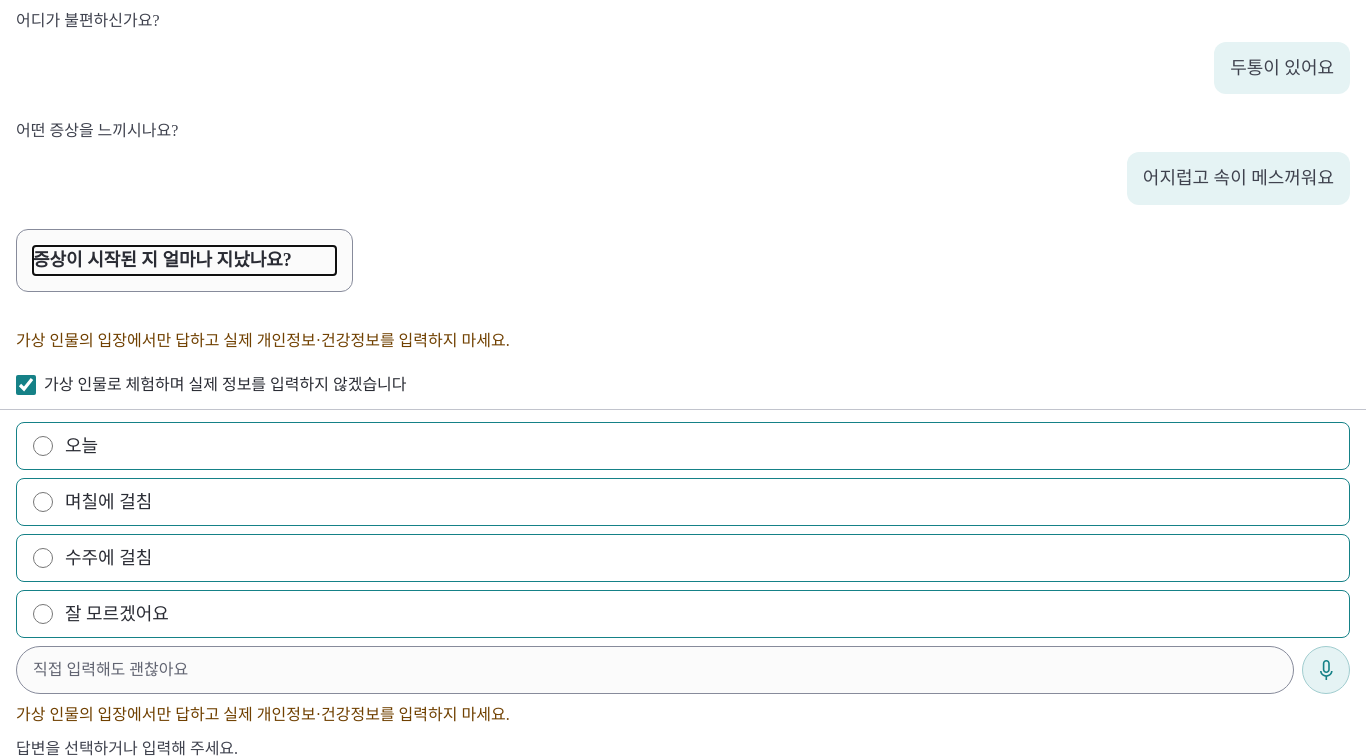
Scenario: 문진 상태 전환 › complete 뒤 요약을 한 번 요청하고 provider 실패 시 같은 history의 결정론적 요약을 표시한다
What coordinates should you click on to do the following:
click the radio button labelled "며칠에 걸침"
I would click on:
 (43, 502)
Its box is [33, 492, 53, 512].
(page scrolled)
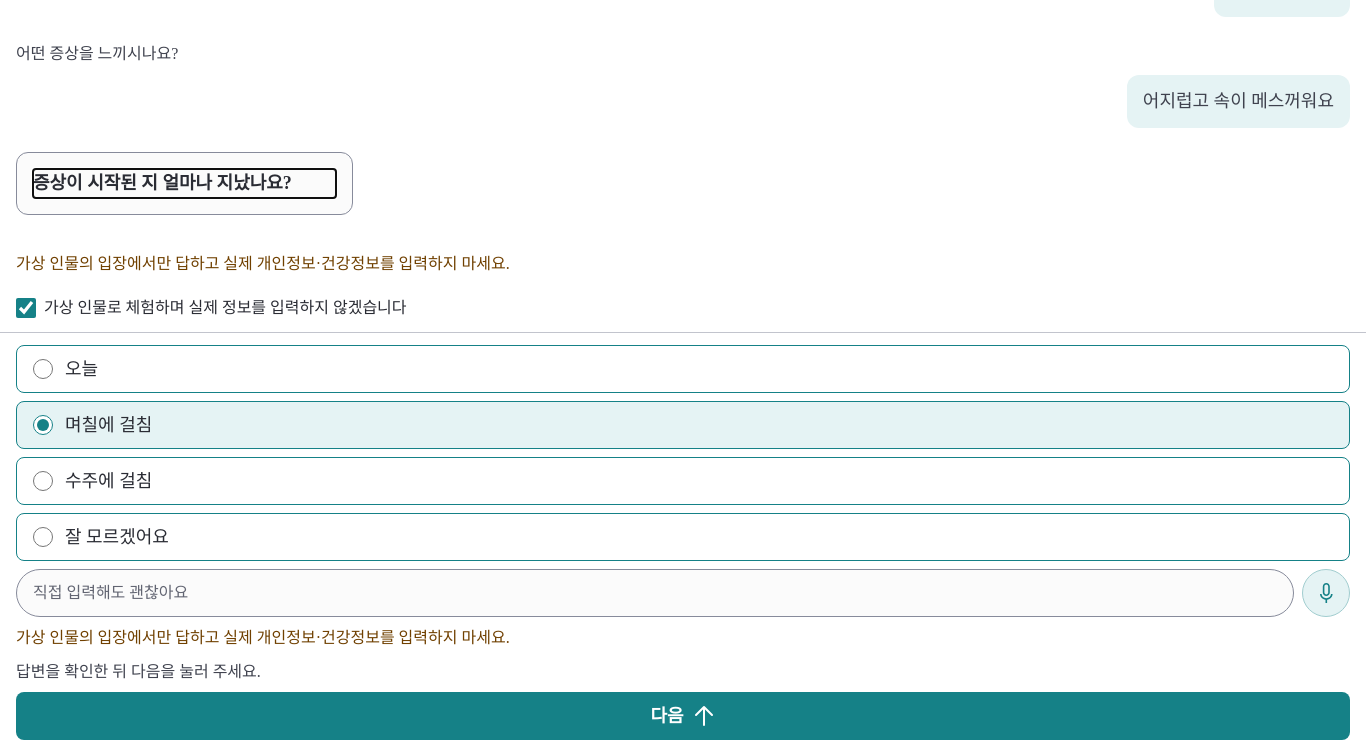
What coordinates should you click on to do the following:
click the button "다음"
I would click on:
 (683, 716)
Its box is [16, 692, 1350, 740].
(page scrolled)
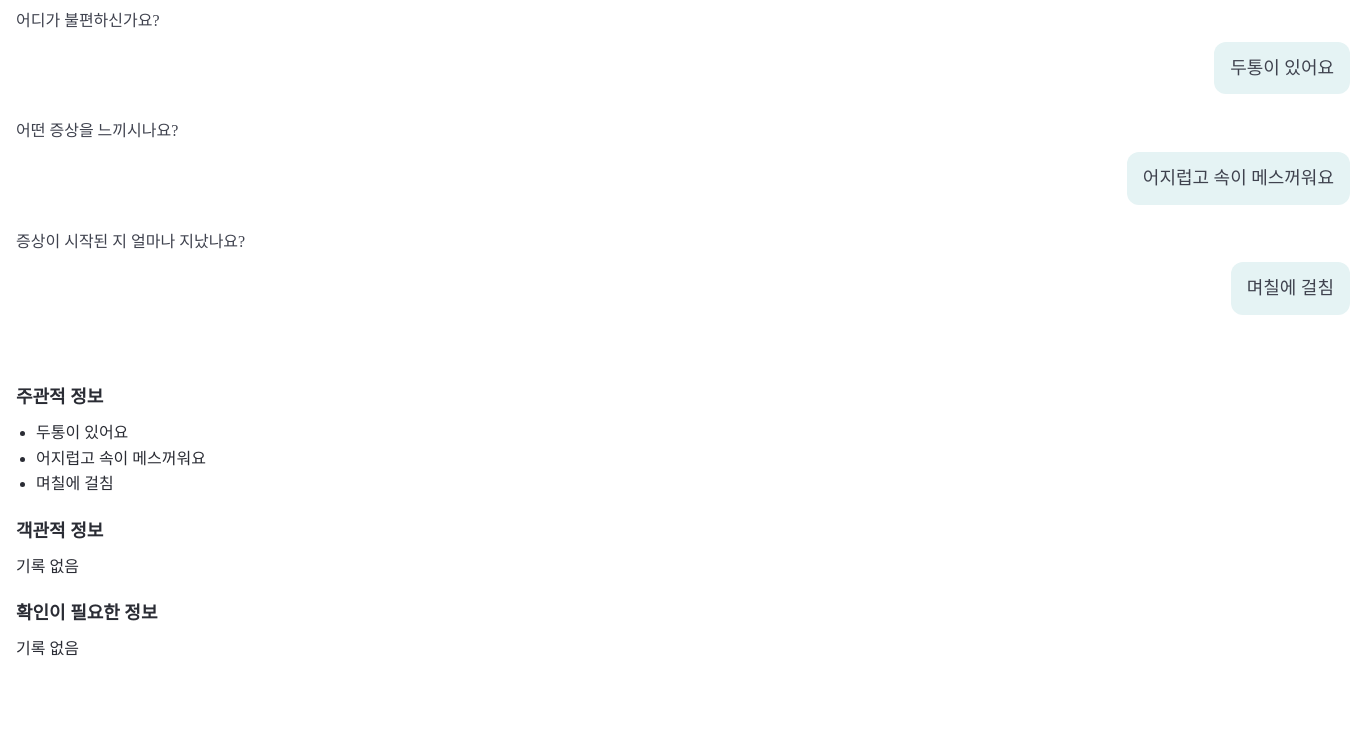
Result: the heading "주관적 정보" is shown at [16, 387, 103, 407]
Result: the heading "객관적 정보" is shown at [16, 521, 103, 541]
Result: the heading "확인이 필요한 정보" is shown at [16, 603, 158, 623]
